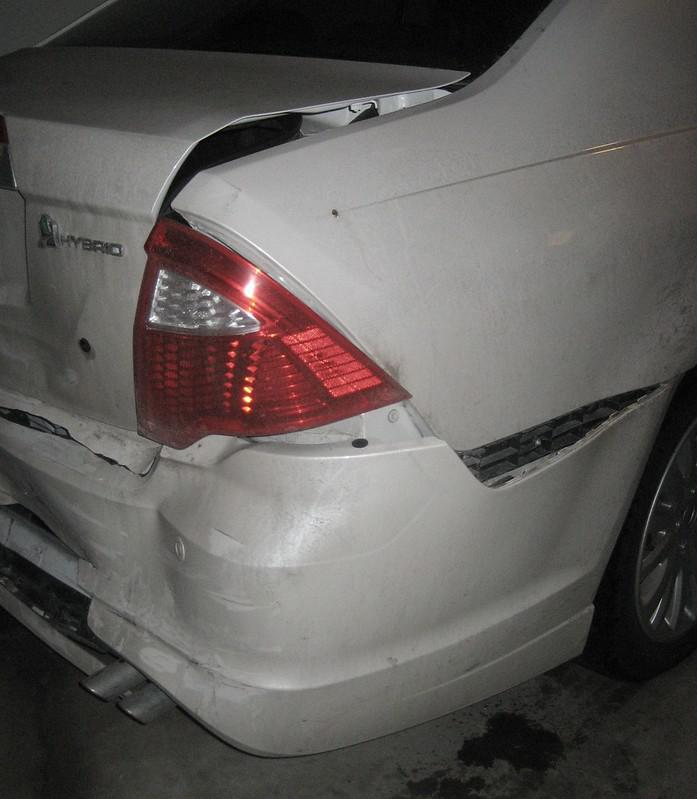boot-dent: (29, 56, 498, 336)
rear-bumper-dent: (0, 430, 513, 736)
